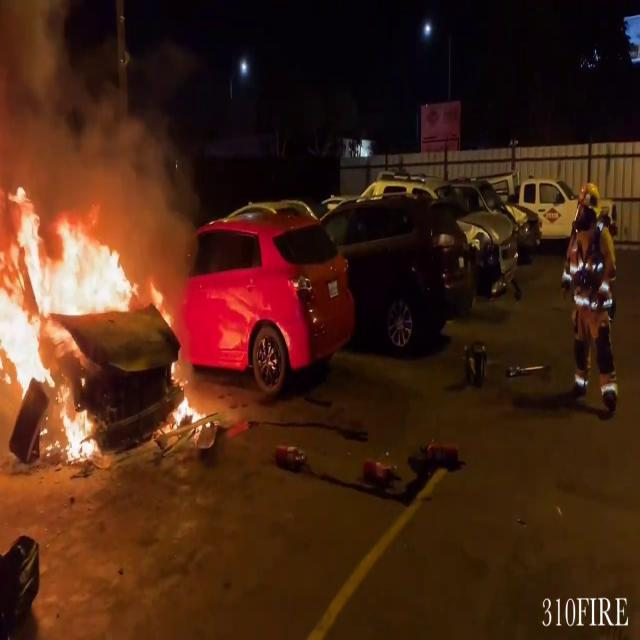Fire: (0, 172, 145, 458), (158, 380, 210, 437)
Smoke: (1, 1, 206, 242)
